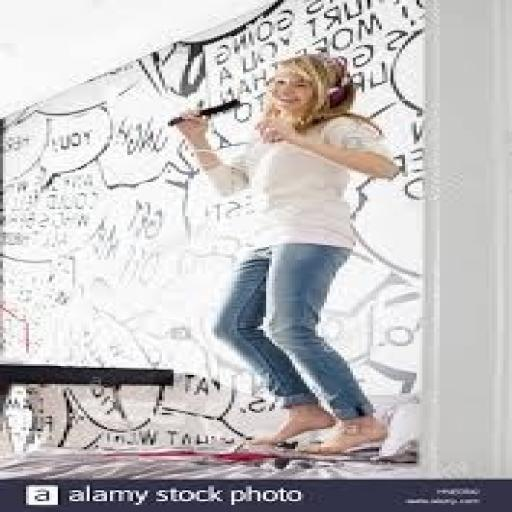listening_to_music: (165, 52, 405, 458)
